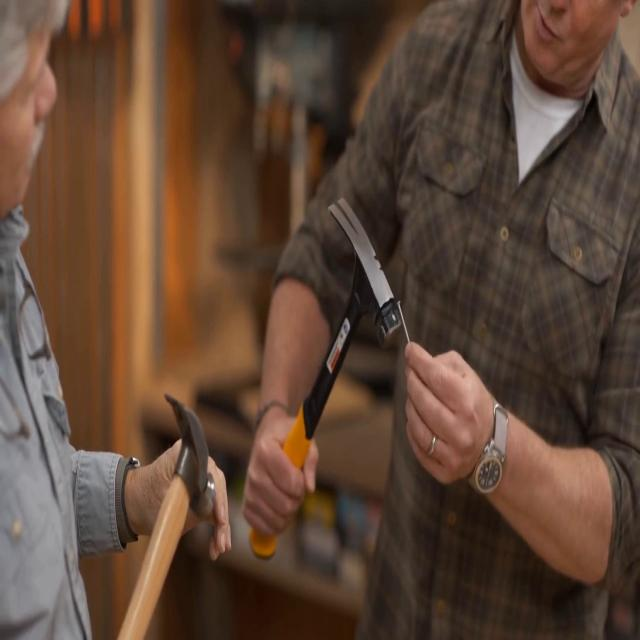hammer: (250, 195, 400, 560), (116, 393, 218, 640)
